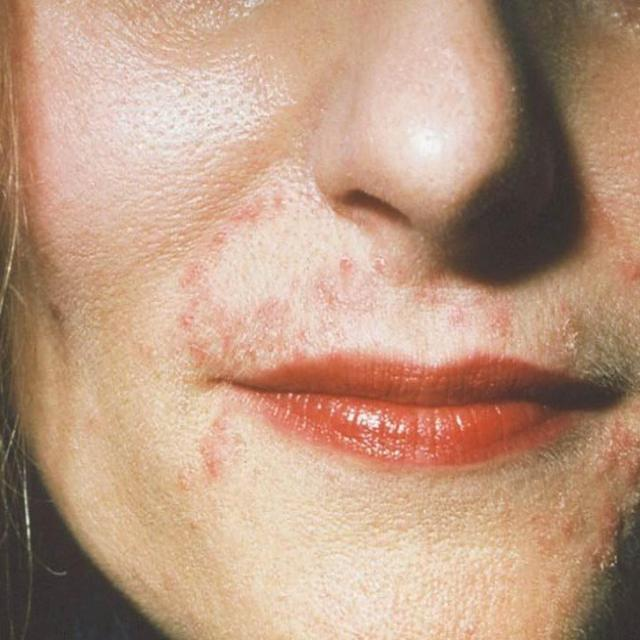Pimples: (200, 412, 242, 474), (42, 297, 72, 349), (213, 221, 234, 258)
